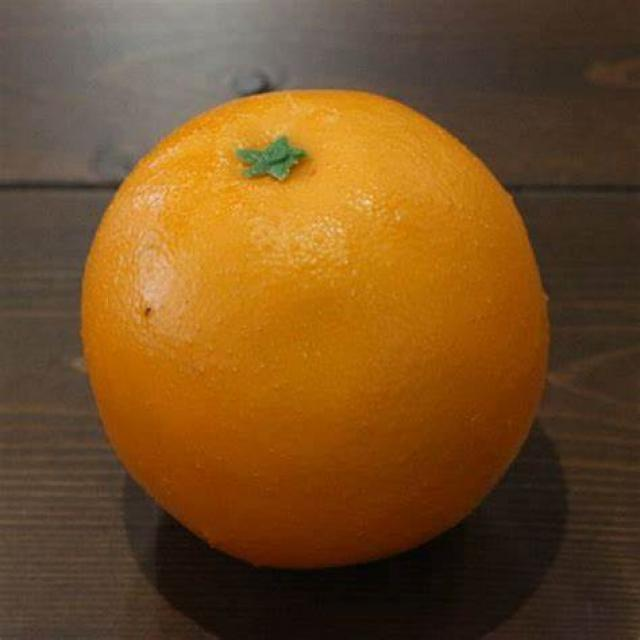Orange: (92, 86, 548, 566)
